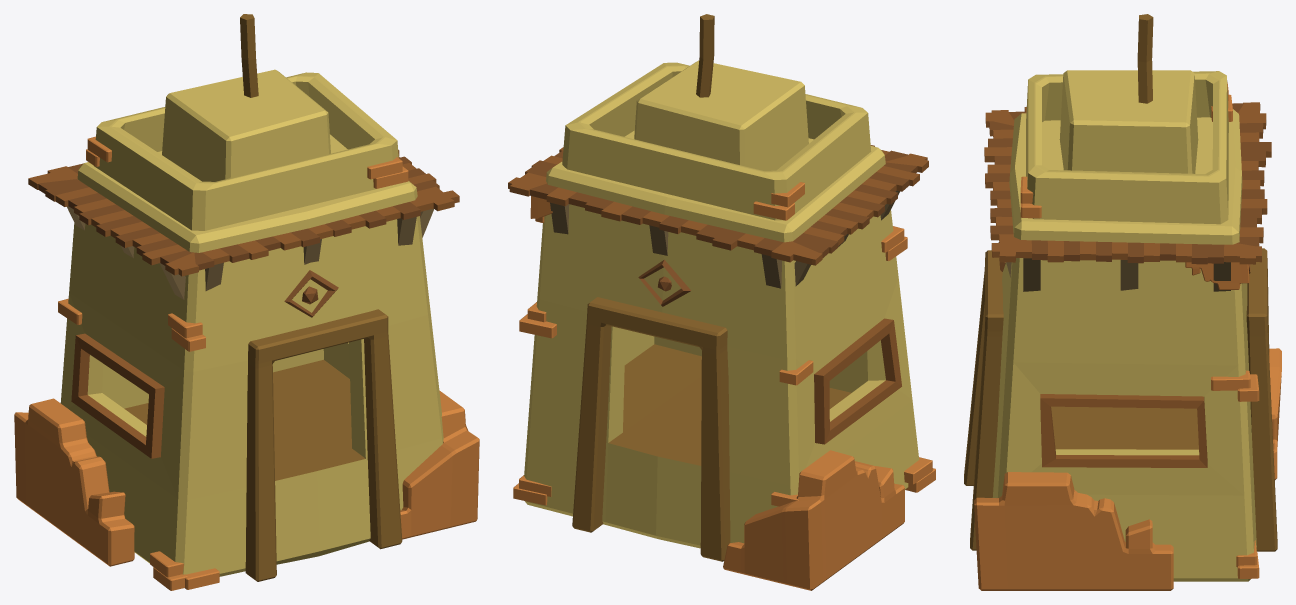
The model's file is Desert_Structure_Hut.fbx.
The picture shows the model from 3 angles, left to right: view 1: azimuth 30°, elevation 25°; view 2: azimuth 150°, elevation 25°; view 3: azimuth 270°, elevation 25°; orthographic projection. The views are drawn at different scales.
Parts seen in each view (by area): view 1: Desert Structure Hut; view 2: Desert Structure Hut; view 3: Desert Structure Hut.
Boxes of the visible parts, x1,y1,x2,y2 form: Desert Structure Hut: (14,14,479,590); Desert Structure Hut: (508,14,935,590); Desert Structure Hut: (964,14,1281,590).
Bounding box in the file's own units: 1477 × 2158 × 1235.
